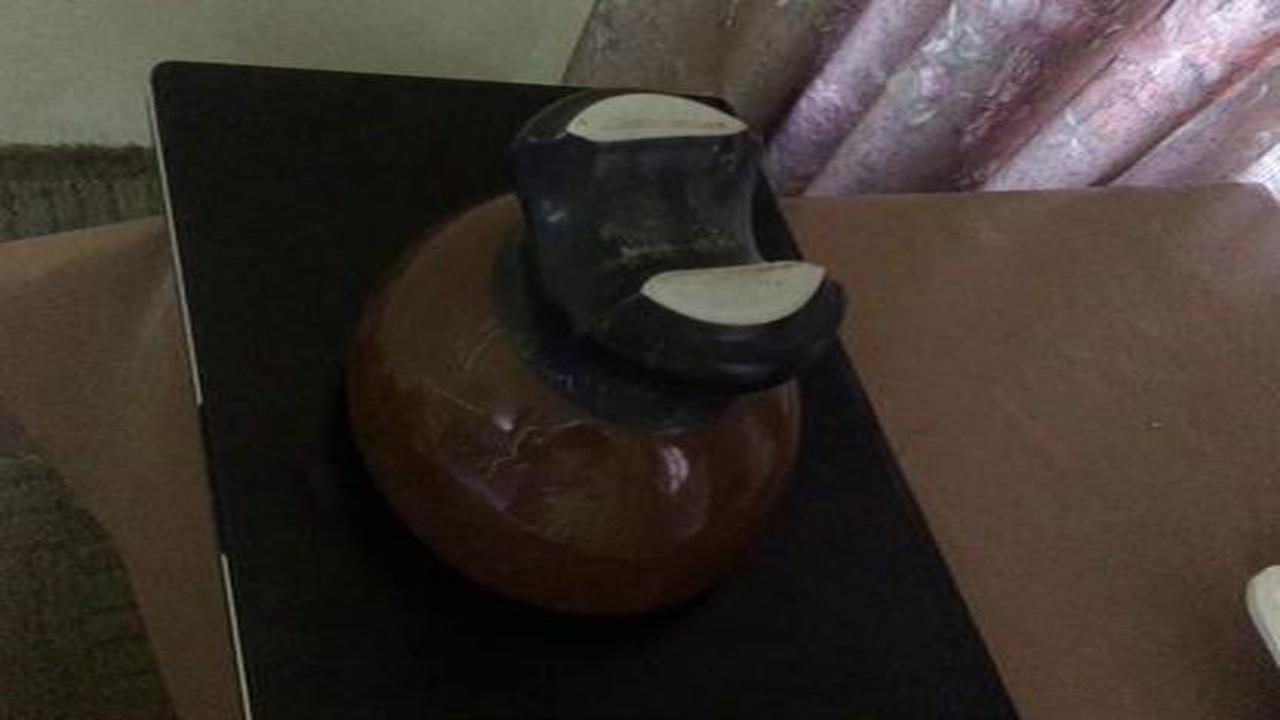insulator_pin: (333, 77, 859, 634)
